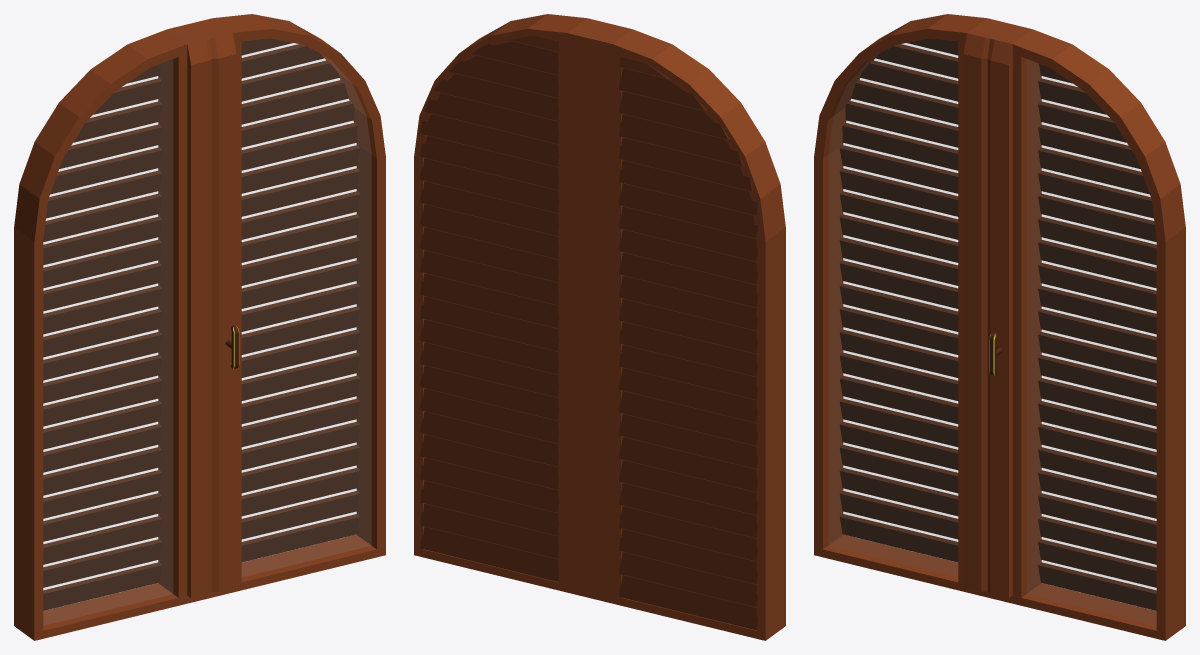
The model's file is fenetre1.fbx.
The picture shows the model from 3 angles, left to right: view 1: azimuth 30°, elevation 25°; view 2: azimuth 150°, elevation 25°; view 3: azimuth 330°, elevation 25°; orthographic projection.
Visible parts, largest first — view 1: Vitre, Volets, Fenetre; view 2: Volets, Fenetre; view 3: Vitre, Volets, Fenetre.
Boxes of the visible parts, <box> form: Vitre: <box>44,39,370,624</box>; Volets: <box>43,38,360,610</box>; Fenetre: <box>14,14,385,640</box>; Volets: <box>420,35,757,630</box>; Fenetre: <box>414,14,785,640</box>; Vitre: <box>829,39,1155,624</box>; Volets: <box>839,38,1156,610</box>; Fenetre: <box>814,14,1185,640</box>.
Bounding box in the file's own units: 200 × 304 × 34.13.
